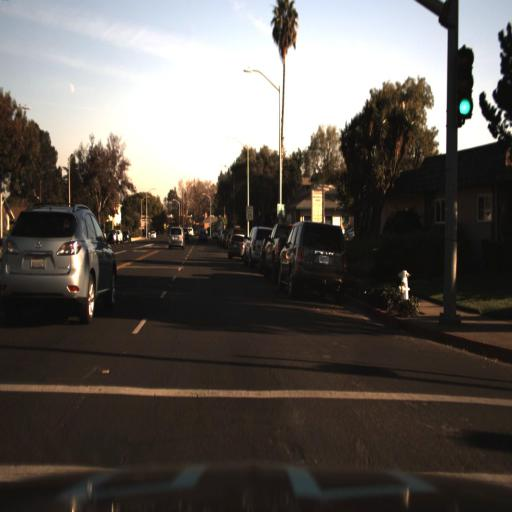car: (2, 191, 118, 353), (0, 206, 119, 330), (277, 218, 351, 308), (242, 218, 271, 266), (260, 223, 286, 276), (263, 220, 280, 277), (245, 224, 263, 271), (167, 224, 183, 250), (195, 225, 211, 249), (195, 226, 212, 248)
